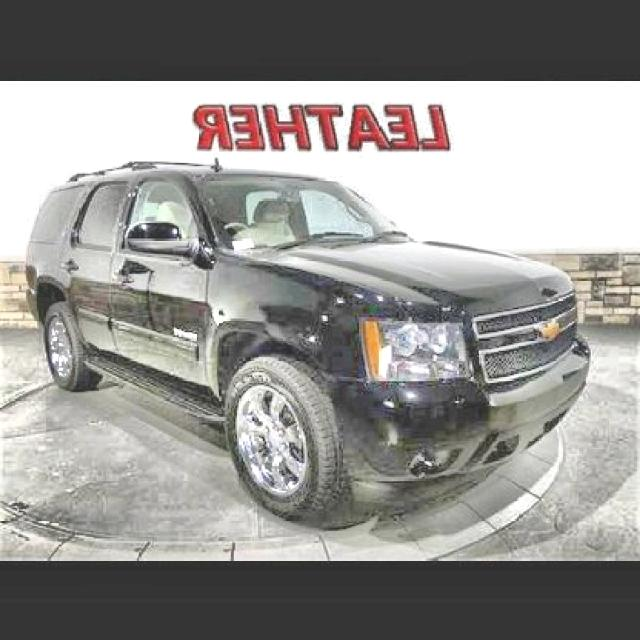black: (22, 159, 587, 483)
